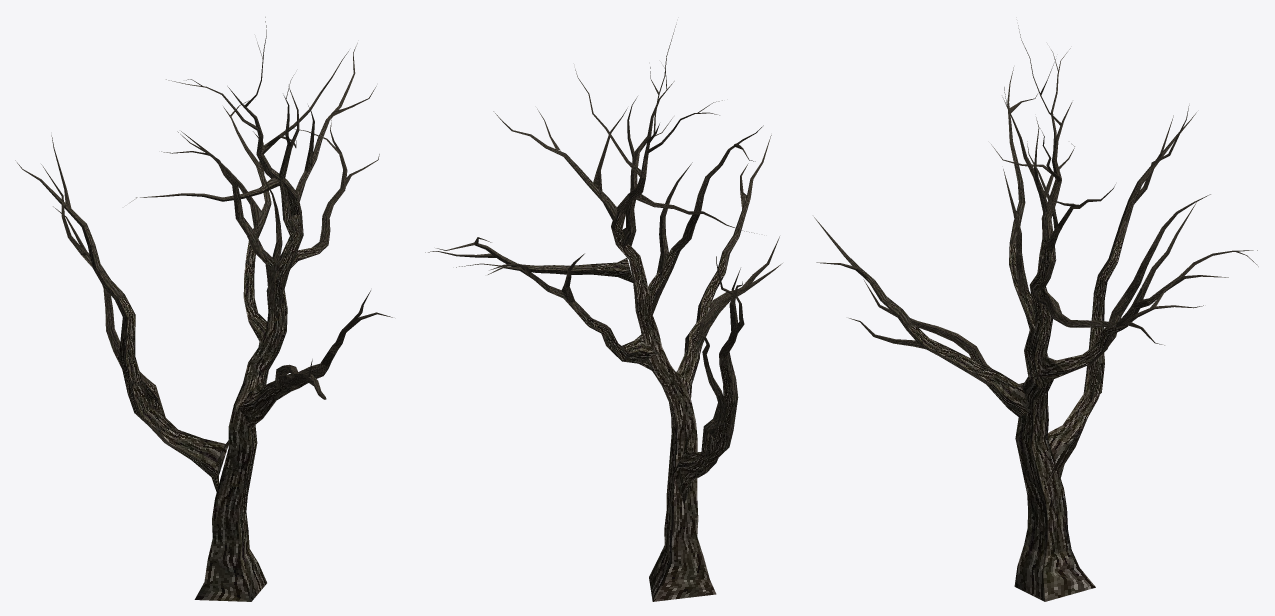
3 renders of one model, left to right at view 1: azimuth 30°, elevation 25°; view 2: azimuth 150°, elevation 25°; view 3: azimuth 270°, elevation 25°, orthographic. The views are drawn at different scales.
Parts seen in each view (by area): view 1: DeadTreeCreatorSwamp; view 2: DeadTreeCreatorSwamp; view 3: DeadTreeCreatorSwamp.
Boxes of the visible parts, x1,y1,x2,y2 form: DeadTreeCreatorSwamp: (15, 17, 392, 601); DeadTreeCreatorSwamp: (425, 24, 782, 601); DeadTreeCreatorSwamp: (814, 25, 1258, 601).
Bounding box in the file's own units: 19.15 × 30.55 × 21.44.
1 material, 1 textured.
